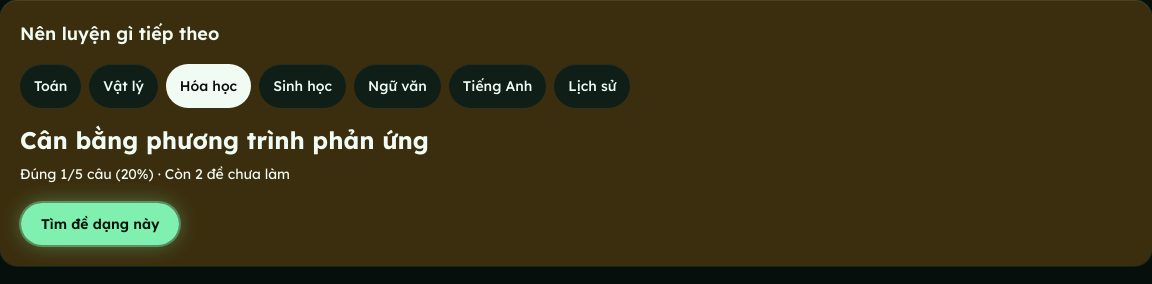
Test: SkillRecommendationCard — bấm chip đổi môn tại chỗ › chuyển trạng thái, chip, màu thẻ theo môn vừa chọn; bấm lại môn cũ trả nội dung cũ
The width and height of the screenshot is (1152, 284).
Expected: the element "Nên luyện gì tiếp theo" shows "Cân bằng phương trình phản ứng", x1=20 y1=125 x2=429 y2=155
What coordinates should you click on to do the following:
click the button "Vật lý"
I would click on:
 (124, 86)
Its box is x1=89 y1=64 x2=158 y2=108.
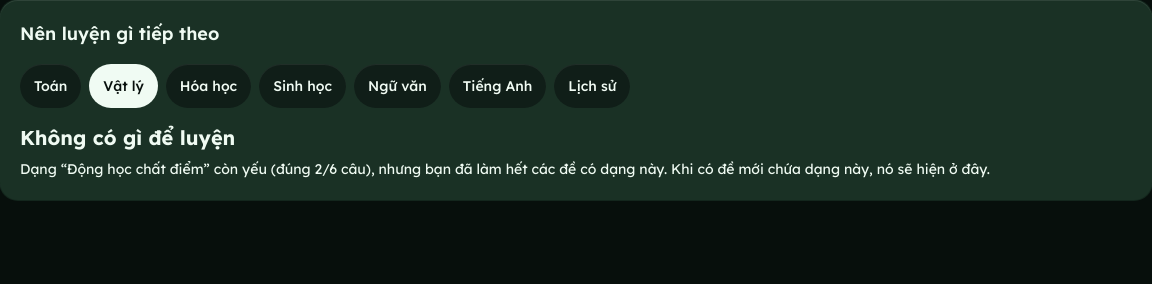
Expected: the element "Nên luyện gì tiếp theo" shows "Không có gì để luyện", x1=20 y1=125 x2=235 y2=150
Expected: the text "Nên luyện gì tiếp theo" no longer shows "Cân bằng phương trình phản ứng"
What coordinates should you click on to do the following:
click the button "Hóa học"
I would click on:
 (208, 86)
Its box is x1=166 y1=64 x2=251 y2=108.
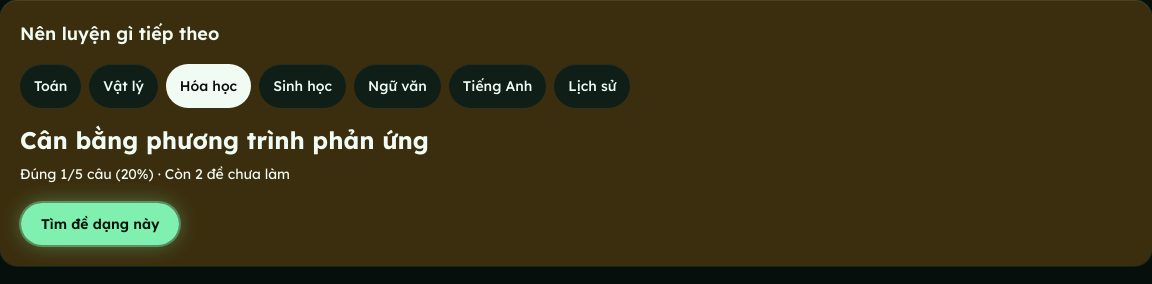
Expected: the element "Nên luyện gì tiếp theo" shows "Cân bằng phương trình phản ứng", x1=20 y1=125 x2=429 y2=155
